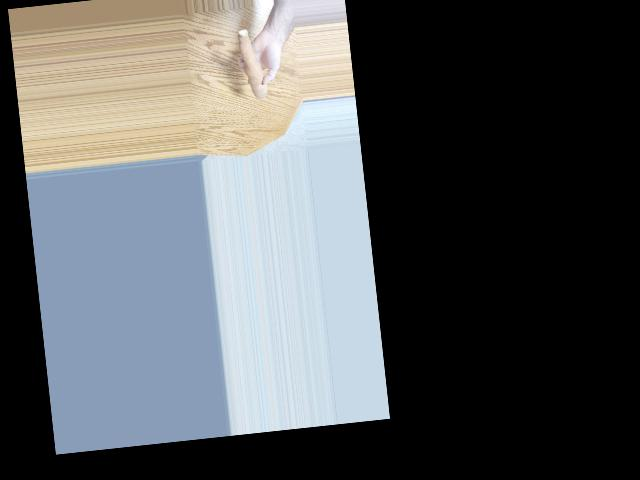sweet_potato: (237, 30, 266, 104)
